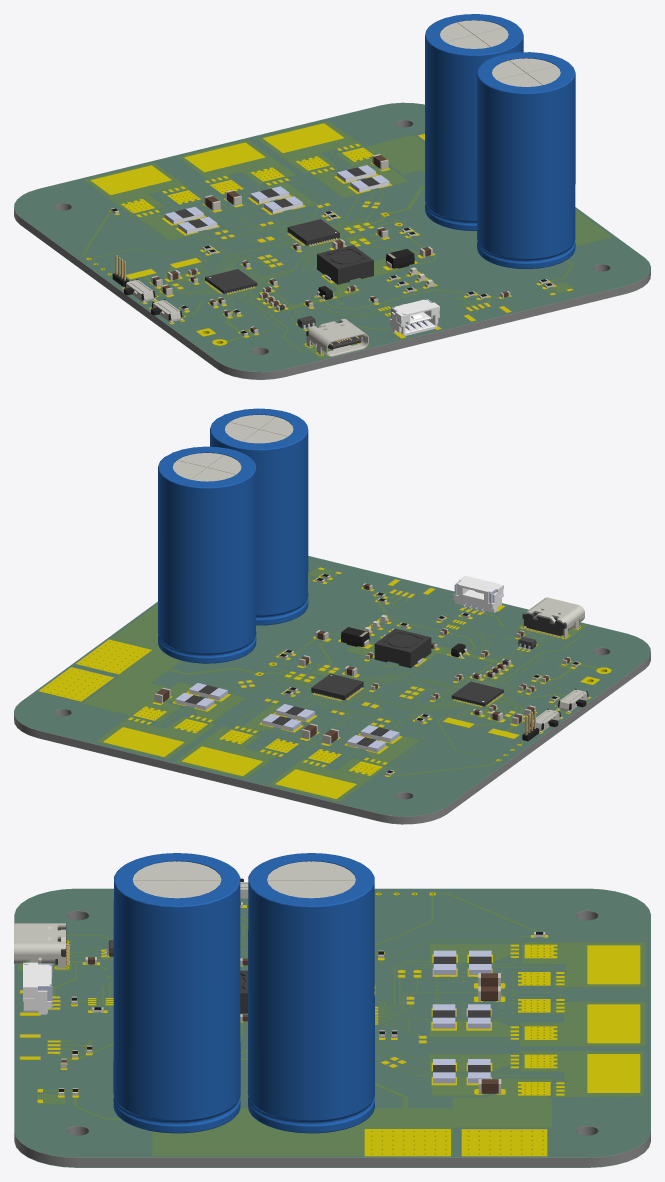
Rendered from bldc.glb.
3 views of the same model, one above another, from view 1: azimuth 30°, elevation 25°; view 2: azimuth 150°, elevation 25°; view 3: azimuth 270°, elevation 25° (orthographic). The views are drawn at different scales.
Visible parts, largest first — view 1: =>[0:1:1:21], =>[0:1:1:23], C39, =>[0:1:1:20], C37, J2, L1, NAUO1, U1, U3, =>[0:1:1:22]; view 2: =>[0:1:1:21], =>[0:1:1:23], =>[0:1:1:20], C37, C39, J2, L1, NAUO1, U1, U3; view 3: =>[0:1:1:21], =>[0:1:1:23], =>[0:1:1:20], C39, C37, J2, NAUO1, =>[0:1:1:22], Rsense_B5, Rsense_C4, Rsense_B4, Rsense_A4 (+2 smaller).
Boxes of the visible parts, <box> form: =>[0:1:1:21]: <box>14,102,650,371</box>; =>[0:1:1:23]: <box>14,103,650,379</box>; C39: <box>477,52,575,268</box>; =>[0:1:1:20]: <box>82,121,611,358</box>; C37: <box>425,14,523,230</box>; J2: <box>306,319,368,356</box>; L1: <box>317,245,373,284</box>; NAUO1: <box>390,299,439,335</box>; U1: <box>287,219,339,245</box>; U3: <box>205,269,257,293</box>; =>[0:1:1:22]: <box>15,219,650,379</box>; =>[0:1:1:21]: <box>14,556,650,816</box>; =>[0:1:1:23]: <box>14,557,650,824</box>; =>[0:1:1:20]: <box>38,567,611,801</box>; C37: <box>158,446,256,663</box>; C39: <box>210,408,308,625</box>; J2: <box>522,597,584,638</box>; L1: <box>374,628,431,667</box>; NAUO1: <box>453,575,503,612</box>; U1: <box>311,673,363,700</box>; U3: <box>451,681,503,706</box>; =>[0:1:1:21]: <box>14,888,650,1157</box>; =>[0:1:1:23]: <box>14,889,650,1167</box>; =>[0:1:1:20]: <box>18,892,644,1156</box>; C39: <box>113,853,240,1133</box>; C37: <box>247,853,374,1133</box>; J2: <box>14,923,68,968</box>; NAUO1: <box>23,962,52,1014</box>; =>[0:1:1:22]: <box>14,1141,650,1167</box>; Rsense_B5: <box>432,1004,455,1028</box>; Rsense_C4: <box>433,950,456,974</box>; Rsense_B4: <box>468,1004,490,1028</box>; Rsense_A4: <box>433,1059,455,1083</box>.
Bounding box in the file's own units: 0.0906 × 0.0385 × 0.0901.
